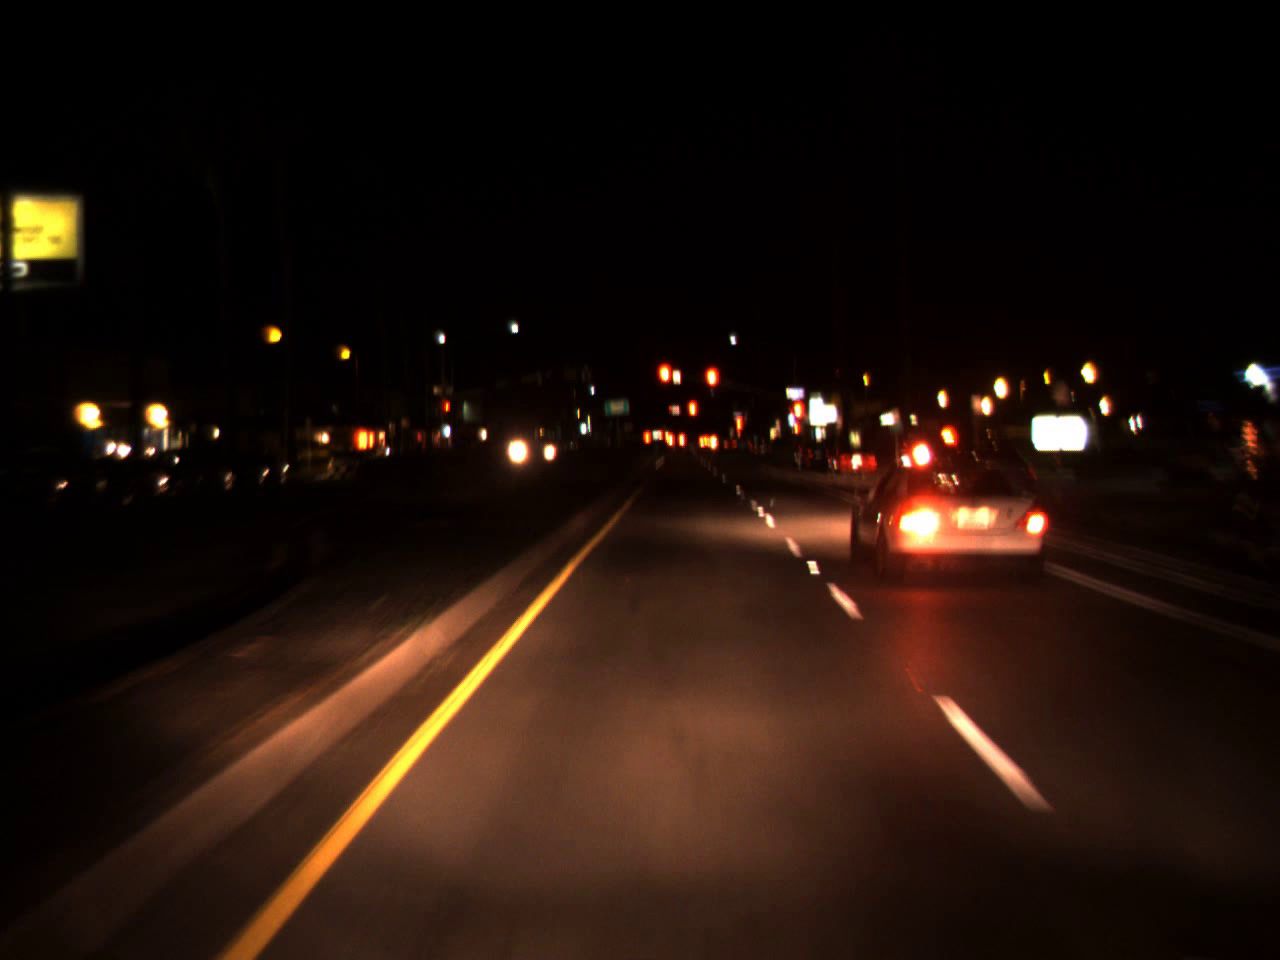stop: (791, 394, 806, 456), (655, 359, 674, 407), (703, 363, 721, 411), (687, 397, 699, 437), (734, 411, 743, 459), (445, 399, 451, 426)
